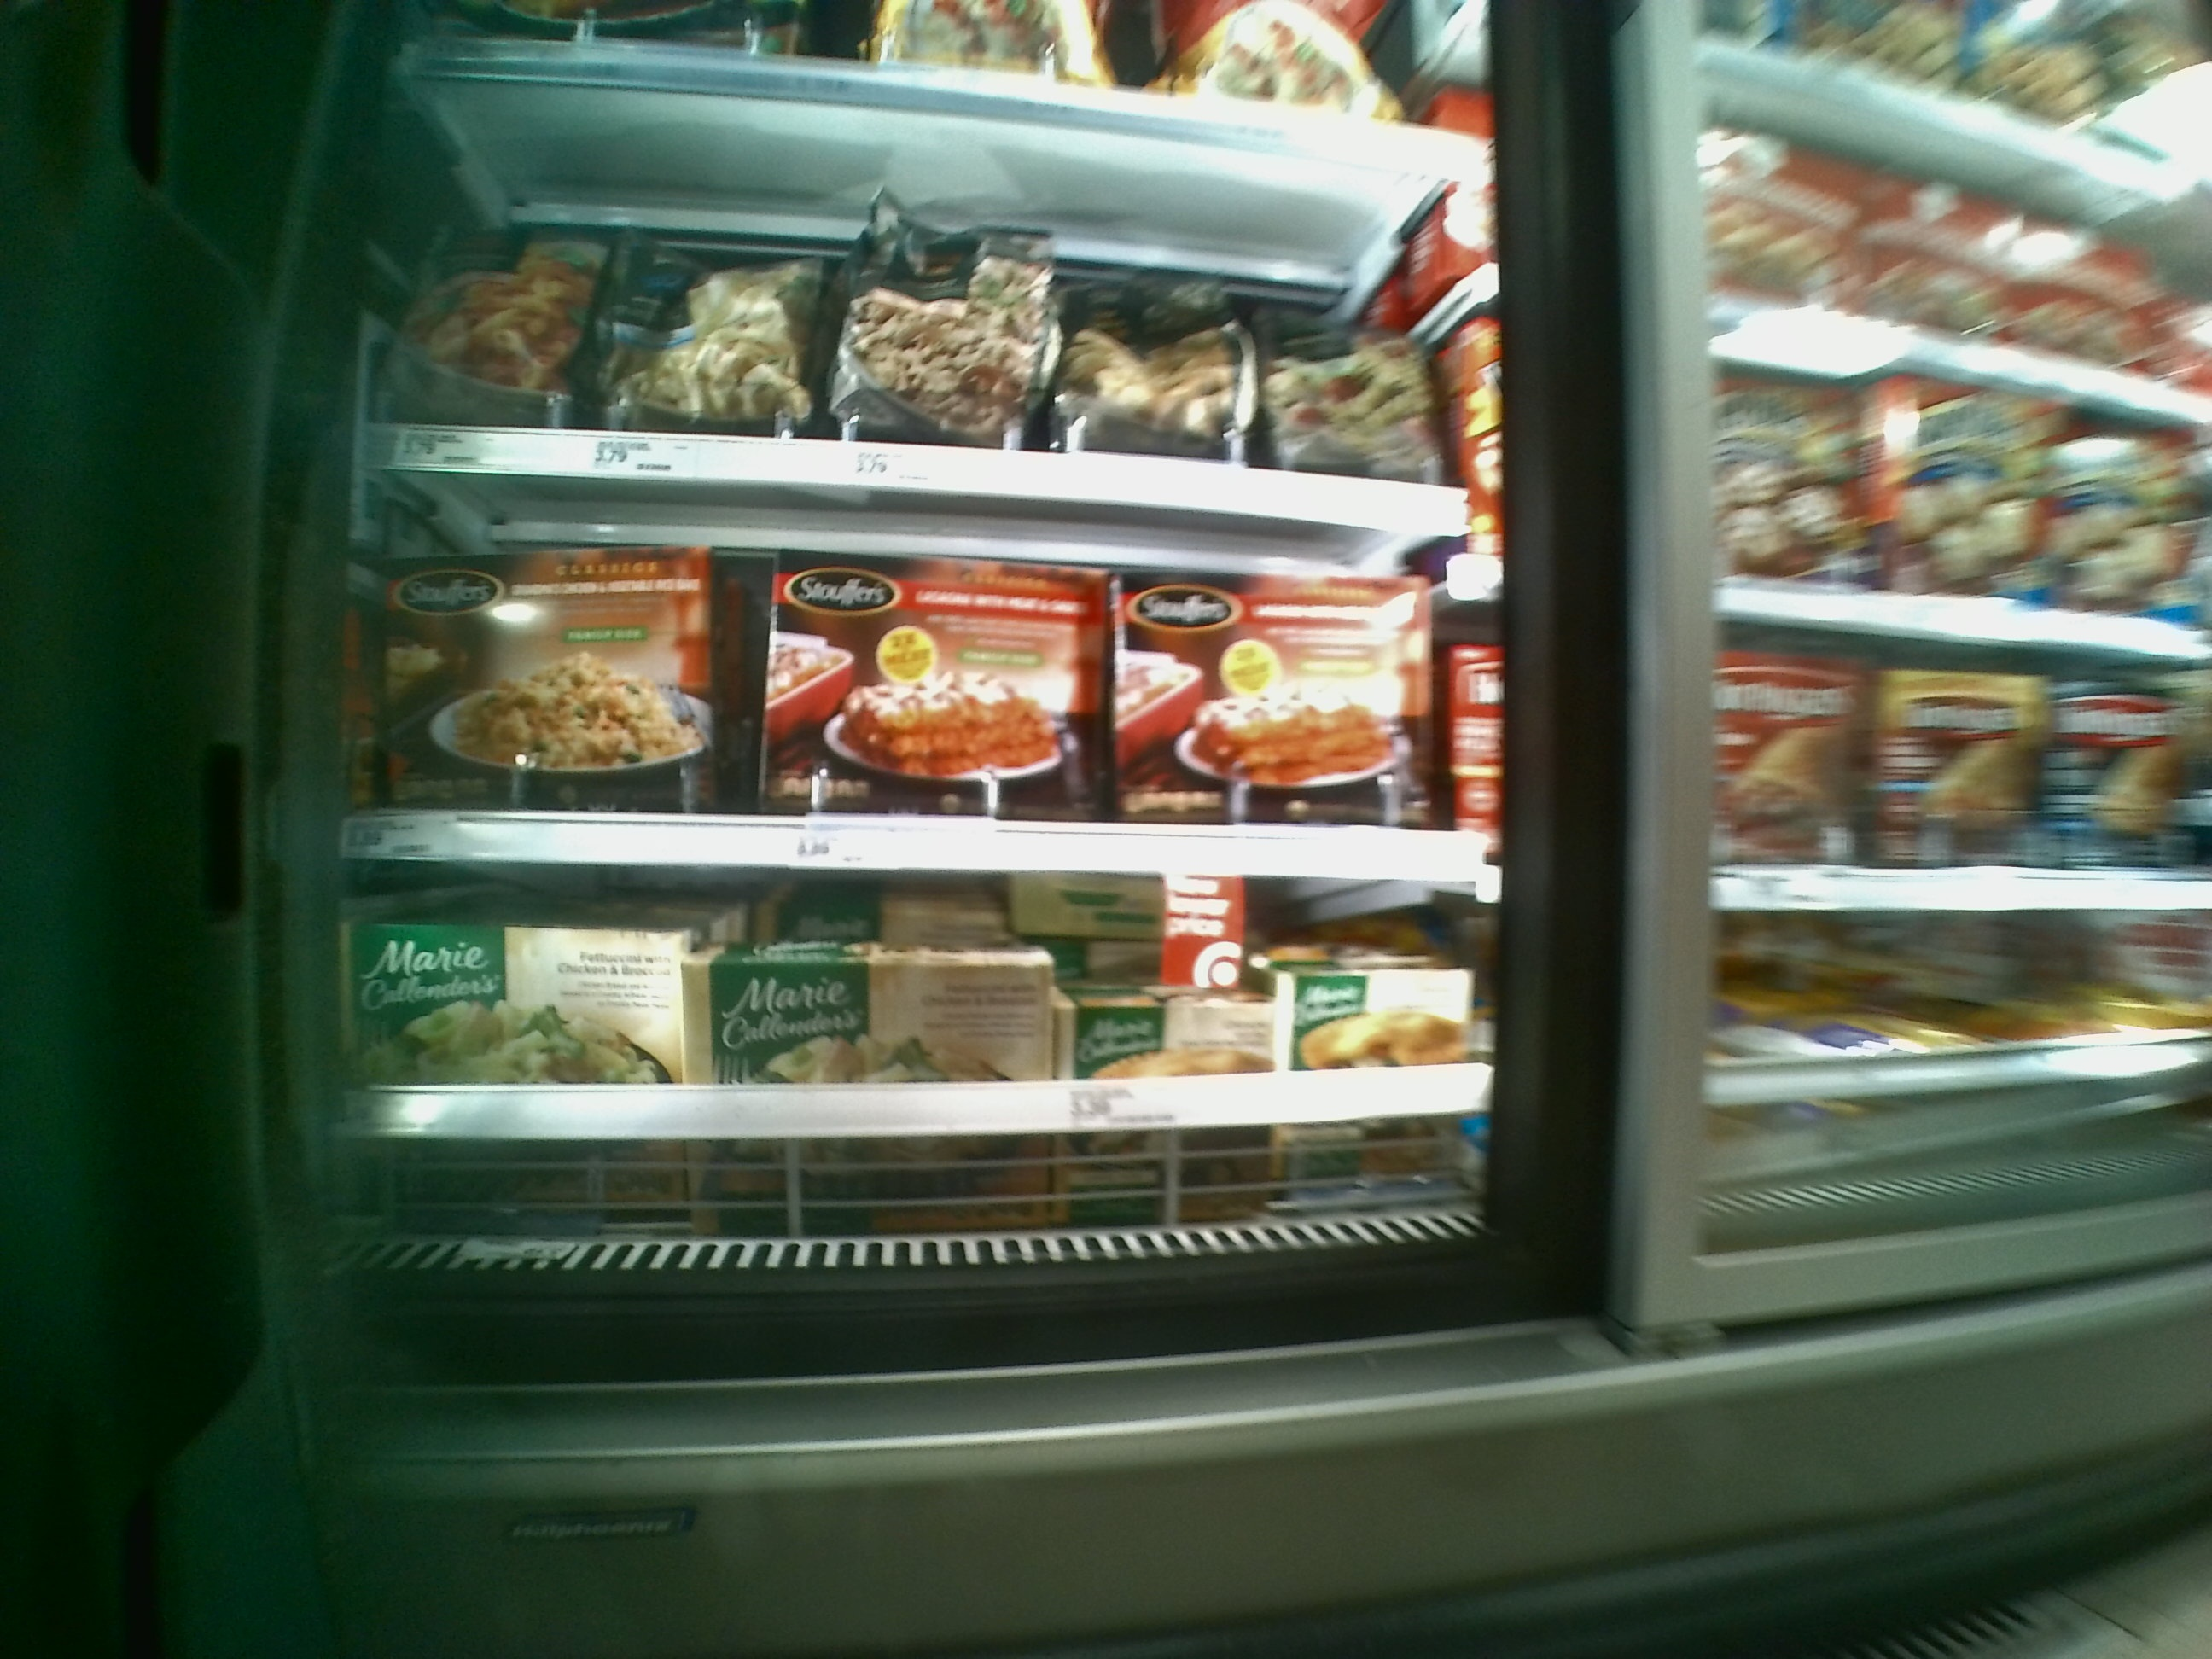shelf: (343, 854, 1536, 1258)
